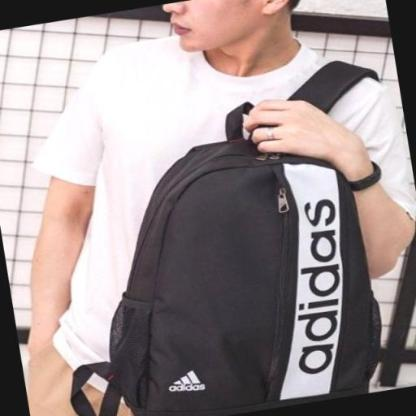bag: (102, 100, 388, 416)
